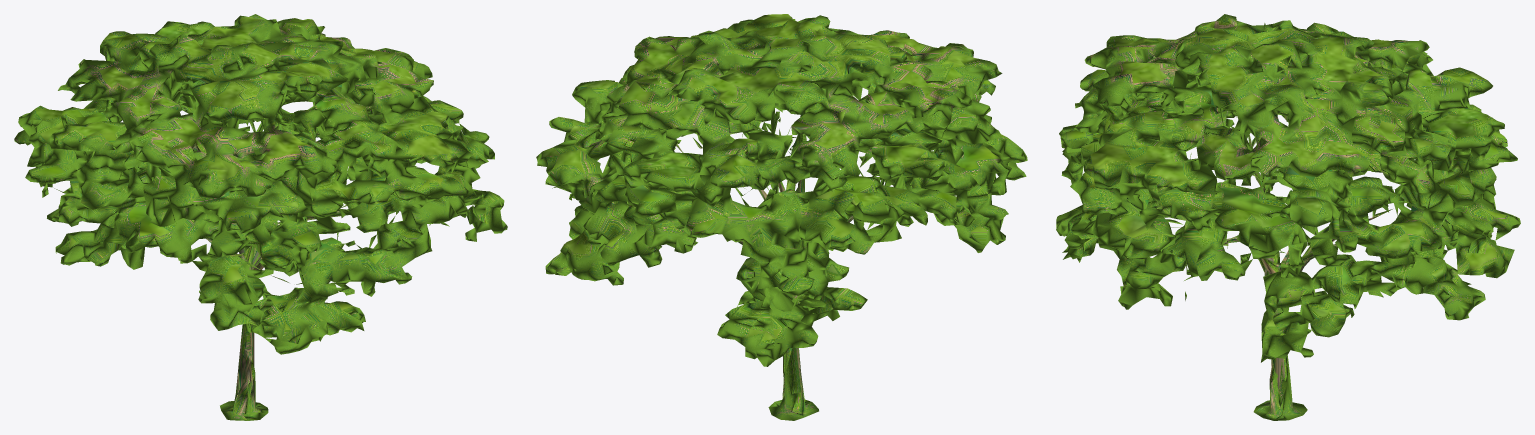
3 renders of one model, left to right at view 1: azimuth 30°, elevation 25°; view 2: azimuth 150°, elevation 25°; view 3: azimuth 270°, elevation 25°, orthographic.
Size of the model in its own units: 1.88 by 1.55 by 1.78.
1 material, 1 textured.
